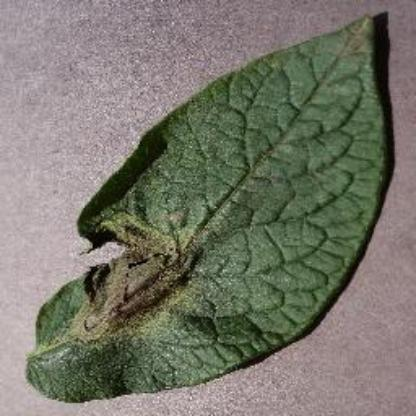Late-Blight: (12, 8, 404, 404)
